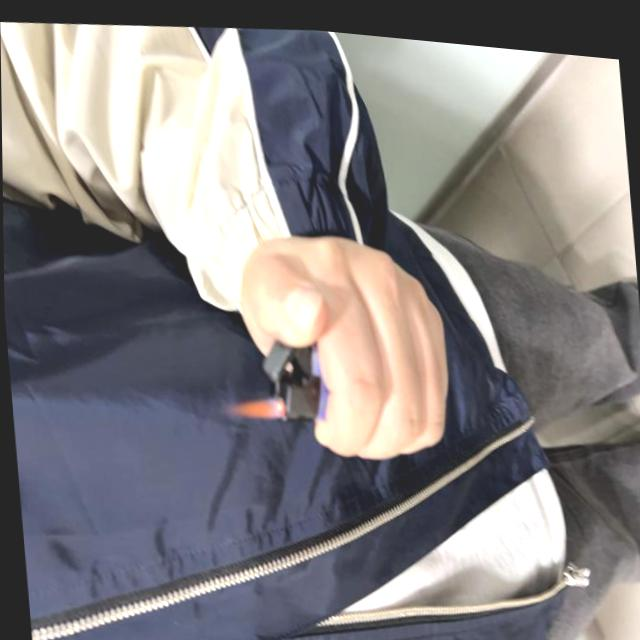helmet: (219, 385, 287, 419)
